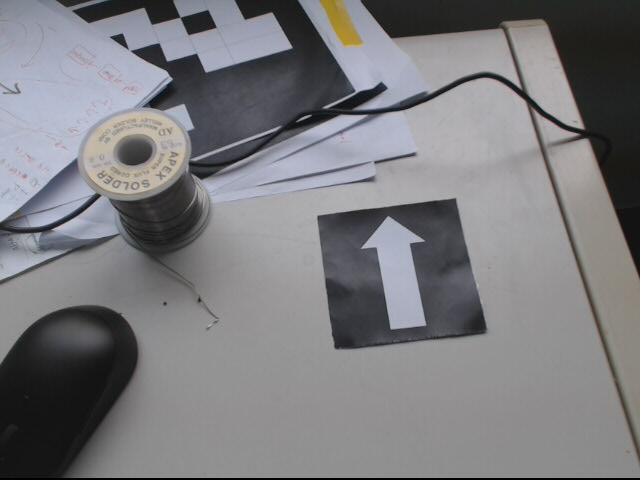straight: (316, 198, 485, 350)
